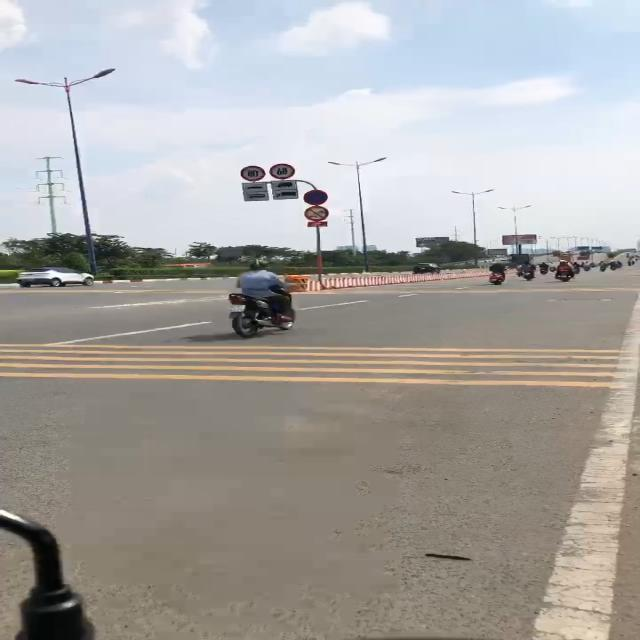Bien bao toc do toi da cho phep: (237, 164, 268, 181), (267, 162, 298, 178)
